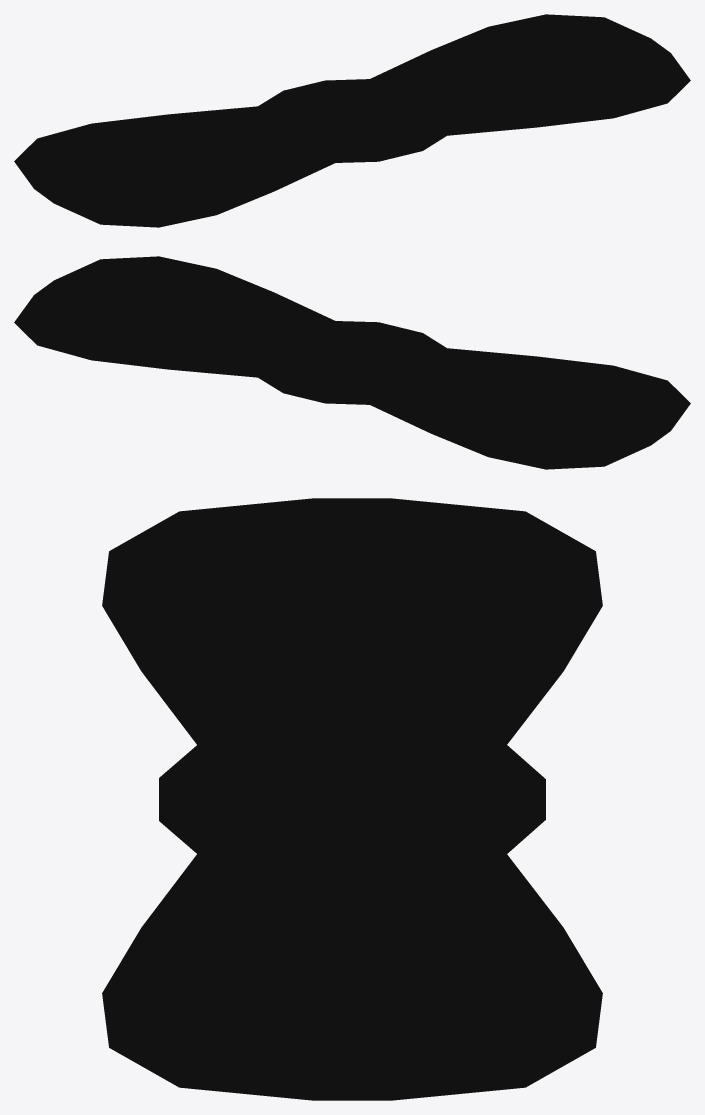
File: Oden_DotLine_Ribbon.gltf
3 renders of one model, top to bottom at view 1: azimuth 30°, elevation 25°; view 2: azimuth 150°, elevation 25°; view 3: azimuth 270°, elevation 25°, orthographic. The views are drawn at different scales.
Visible parts, largest first — view 1: Oden_DotLine_Ribbon; view 2: Oden_DotLine_Ribbon; view 3: Oden_DotLine_Ribbon.
Boxes of the visible parts, x1,y1,x2,y2 form: Oden_DotLine_Ribbon: (14, 14, 690, 227); Oden_DotLine_Ribbon: (14, 256, 690, 469); Oden_DotLine_Ribbon: (102, 498, 602, 1100).
Size of the model in its own units: 3.08 by 4.41e-06 by 1.08.
Materials: 1 (1 with a texture image).
